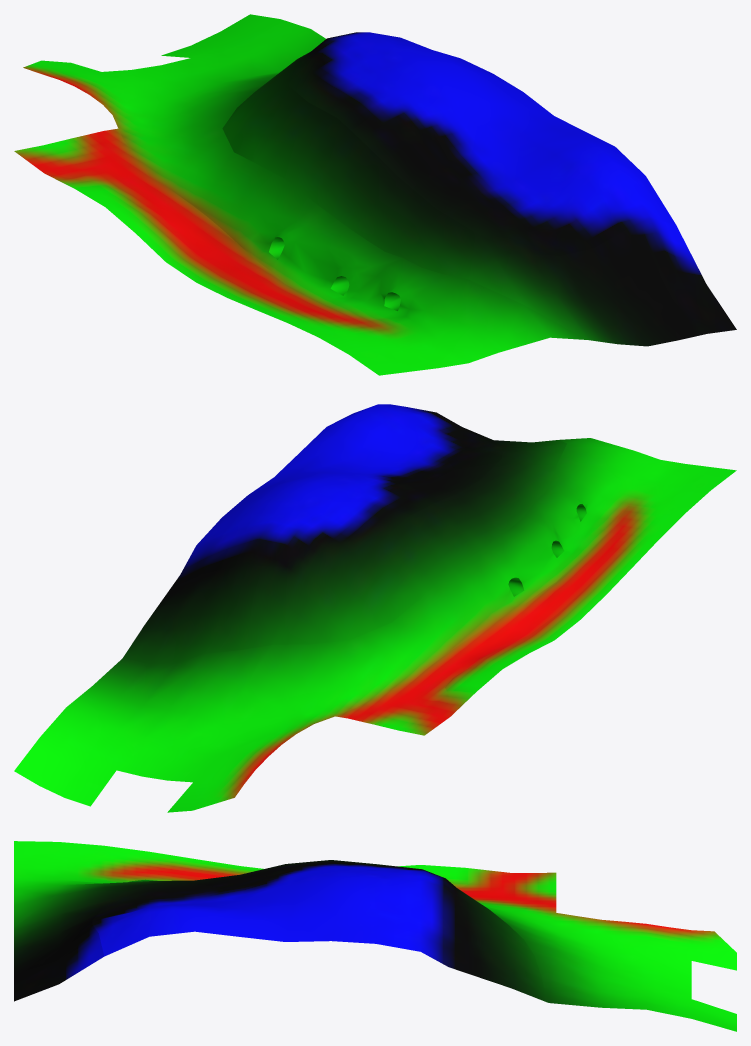
Rendered from terrain2.glb.
3 views of the same model, one above another, from view 1: azimuth 30°, elevation 25°; view 2: azimuth 150°, elevation 25°; view 3: azimuth 270°, elevation 25° (orthographic). The views are drawn at different scales.
Visible parts, largest first — view 1: grass2.jpg_splat2.jpg, snow.png_splat2.jpg, rock_grey.jpg_splat2.jpg, dirt.jpg_splat2.jpg; view 2: grass2.jpg_splat2.jpg, rock_grey.jpg_splat2.jpg, snow.png_splat2.jpg, dirt.jpg_splat2.jpg; view 3: grass2.jpg_splat2.jpg, snow.png_splat2.jpg, rock_grey.jpg_splat2.jpg, dirt.jpg_splat2.jpg.
Boxes of the visible parts, box(x1,y1,x2,y2) form: grass2.jpg_splat2.jpg: box(15, 14, 586, 375); snow.png_splat2.jpg: box(288, 32, 675, 255); rock_grey.jpg_splat2.jpg: box(222, 52, 736, 346); dirt.jpg_splat2.jpg: box(14, 128, 383, 332); grass2.jpg_splat2.jpg: box(14, 438, 736, 812); rock_grey.jpg_splat2.jpg: box(123, 427, 586, 663); snow.png_splat2.jpg: box(180, 404, 502, 574); dirt.jpg_splat2.jpg: box(335, 506, 654, 735); grass2.jpg_splat2.jpg: box(14, 841, 736, 1031); snow.png_splat2.jpg: box(92, 860, 466, 966); rock_grey.jpg_splat2.jpg: box(14, 876, 548, 1002); dirt.jpg_splat2.jpg: box(104, 861, 556, 912).
Bounding box in the file's own units: 52.86 × 25.85 × 125.
4 materials, 4 textured.
